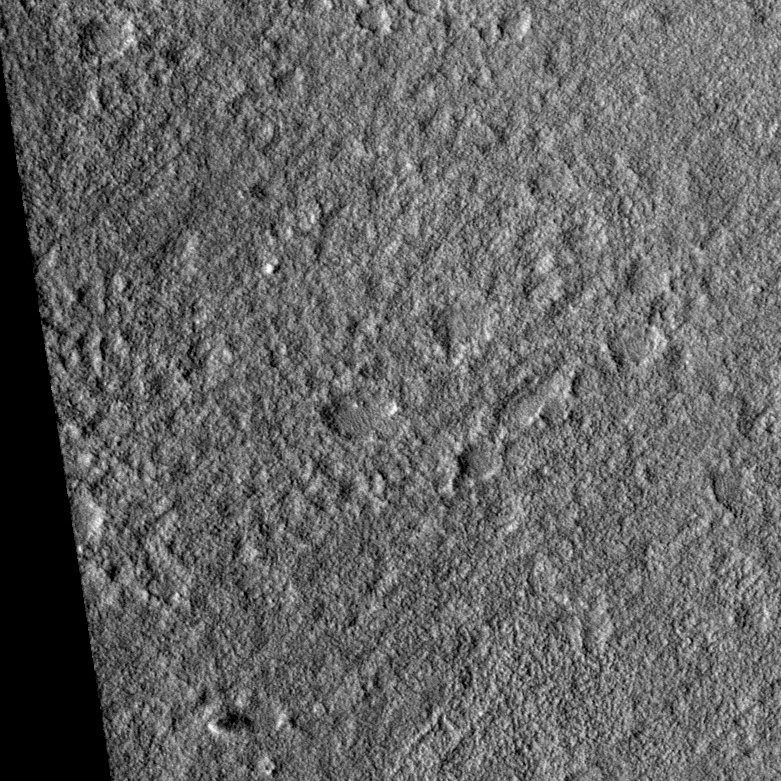dust_devil: (205, 711, 254, 737)
